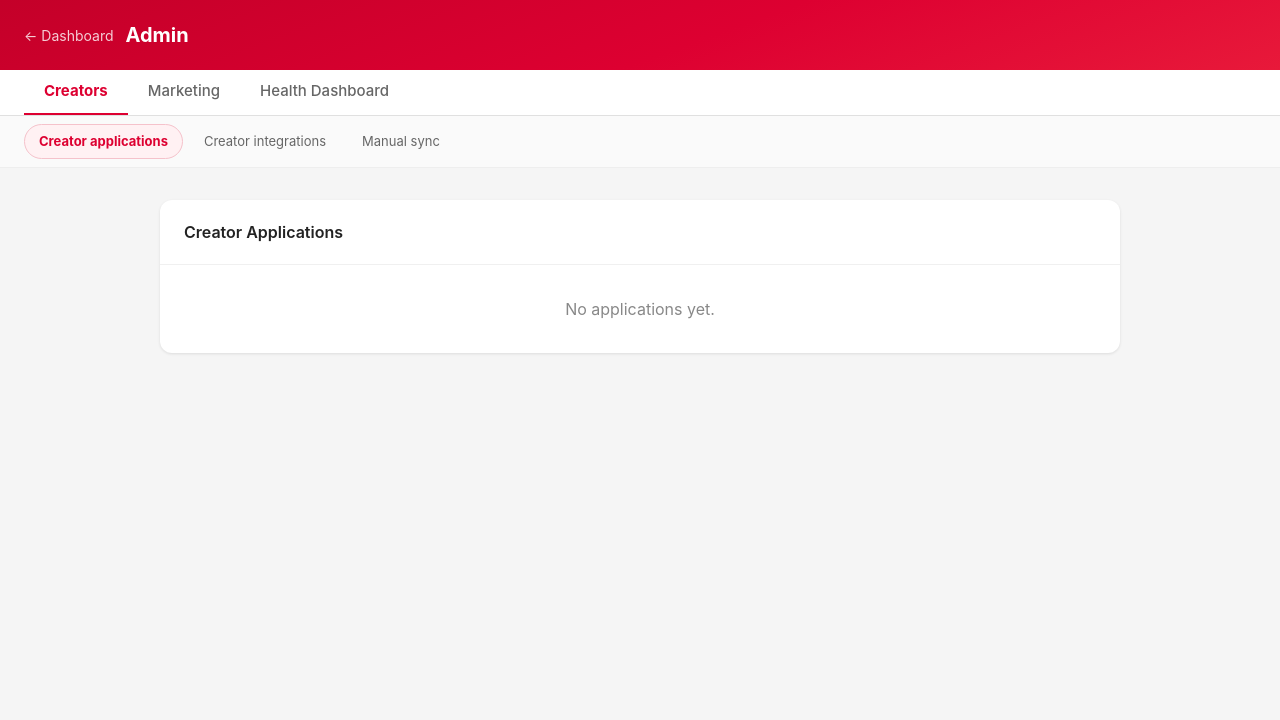
admin Sources tab — health that could not be read › counts a creator whose health was not read as "not read", never as "no source"
Click the button "Creator integrations". click: (265, 141)
box: [189, 124, 341, 159]
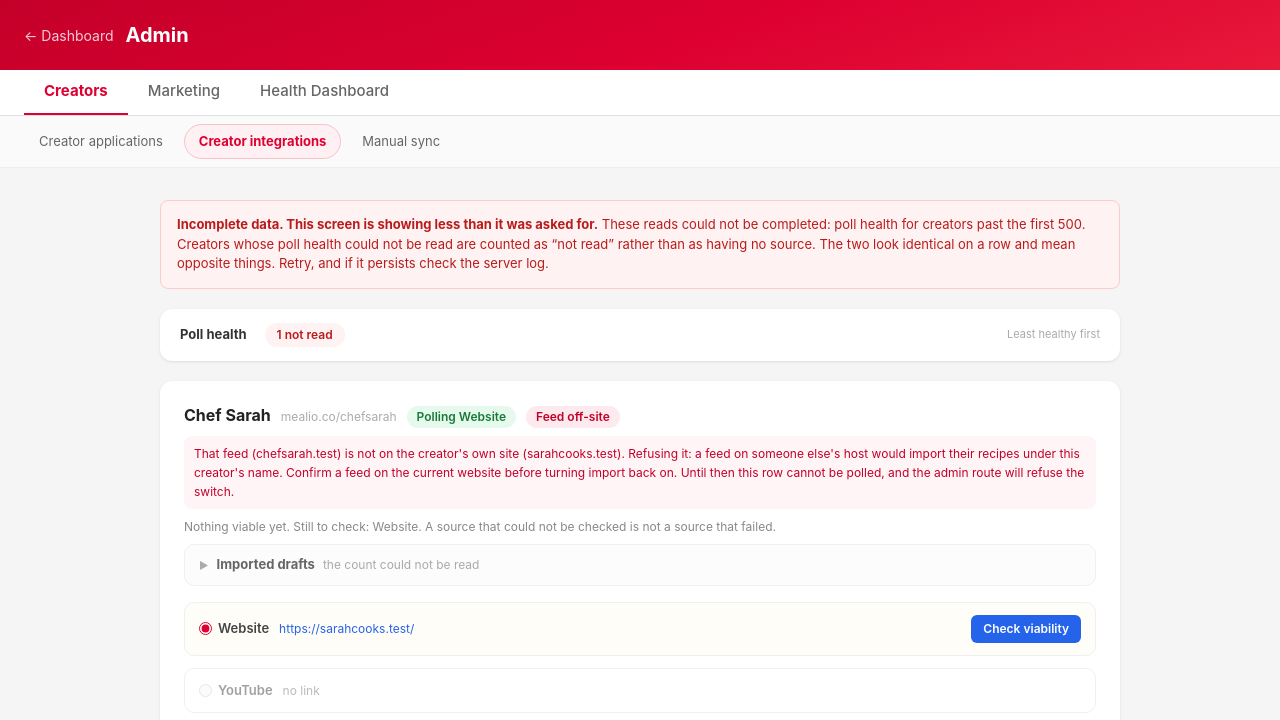
Expected: the text with test id "poll-health-unknown" reads "1 not read", [264, 322, 345, 346]
